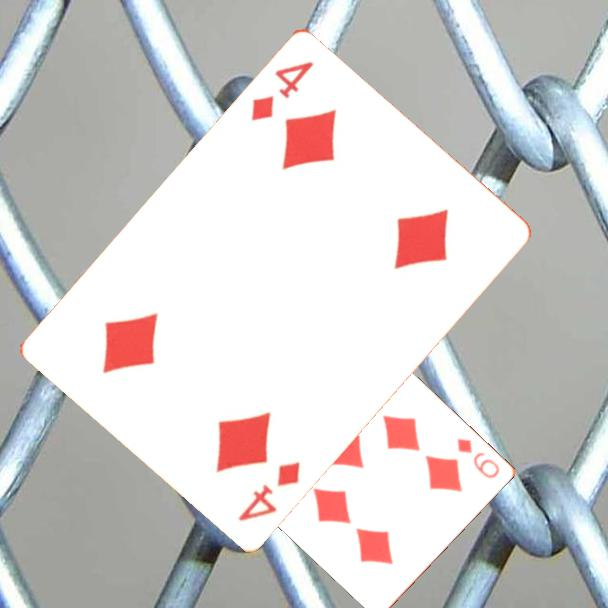d04: (247, 56, 317, 124), (234, 457, 303, 523)
d09: (454, 434, 503, 481)
